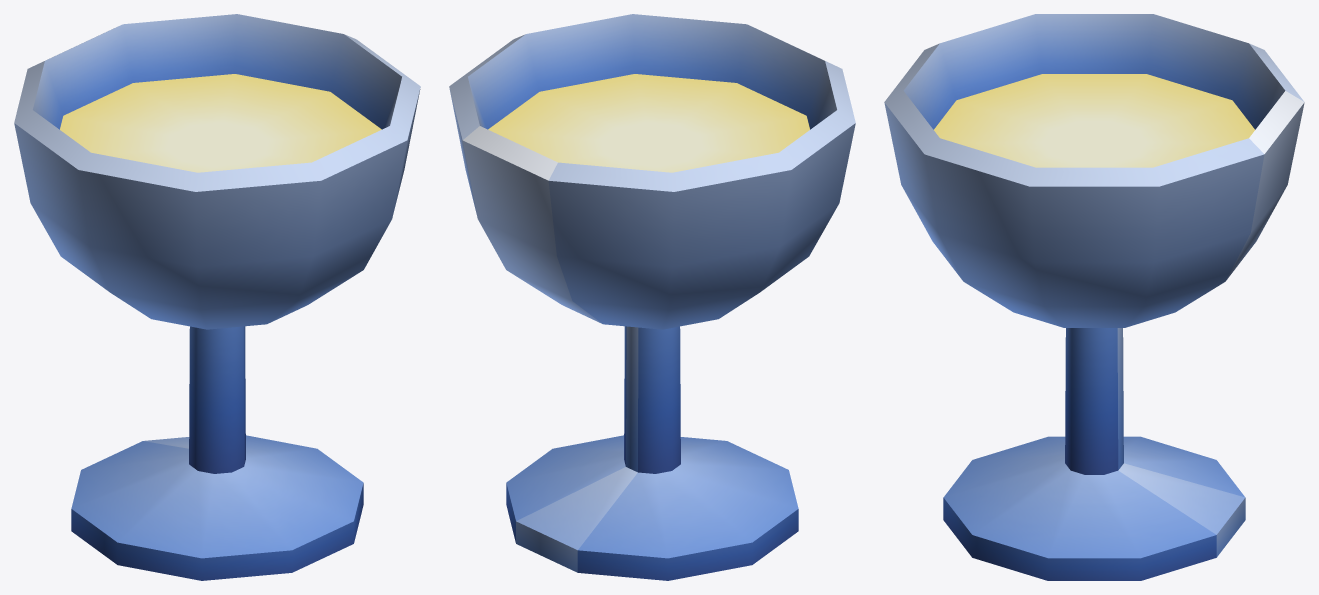
File: m_BerlinerWeisseBeer02.fbx
3 views of the same model, side by side, from view 1: azimuth 30°, elevation 25°; view 2: azimuth 150°, elevation 25°; view 3: azimuth 270°, elevation 25° (orthographic).
Visible parts, largest first — view 1: m_BerlinerWeisseBeer02; view 2: m_BerlinerWeisseBeer02; view 3: m_BerlinerWeisseBeer02.
Part boxes in pixels (left/top/right/bottom): m_BerlinerWeisseBeer02: left=14, top=14, right=420, bottom=580; m_BerlinerWeisseBeer02: left=449, top=14, right=855, bottom=580; m_BerlinerWeisseBeer02: left=884, top=14, right=1304, bottom=580.
Size of the model in its own units: 15.89 by 18.83 by 16.7.
